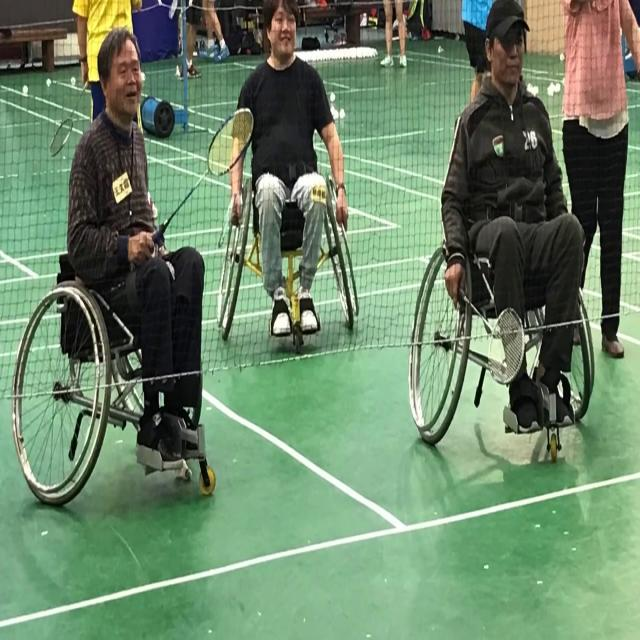wheelchairs: (8, 239, 224, 515), (395, 213, 609, 491), (200, 162, 380, 366)
